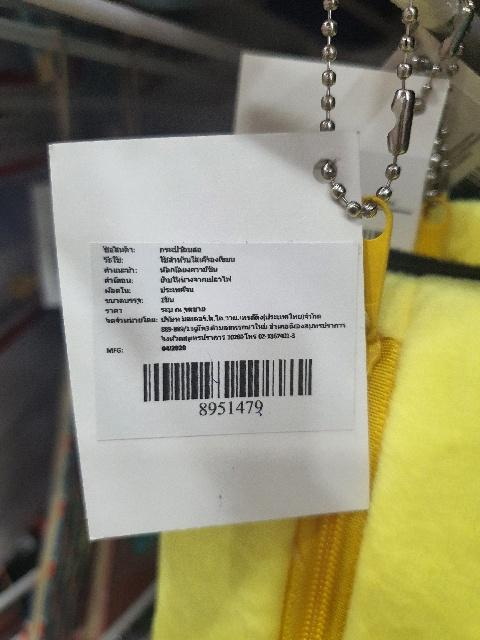Barcode: (134, 353, 326, 418)
